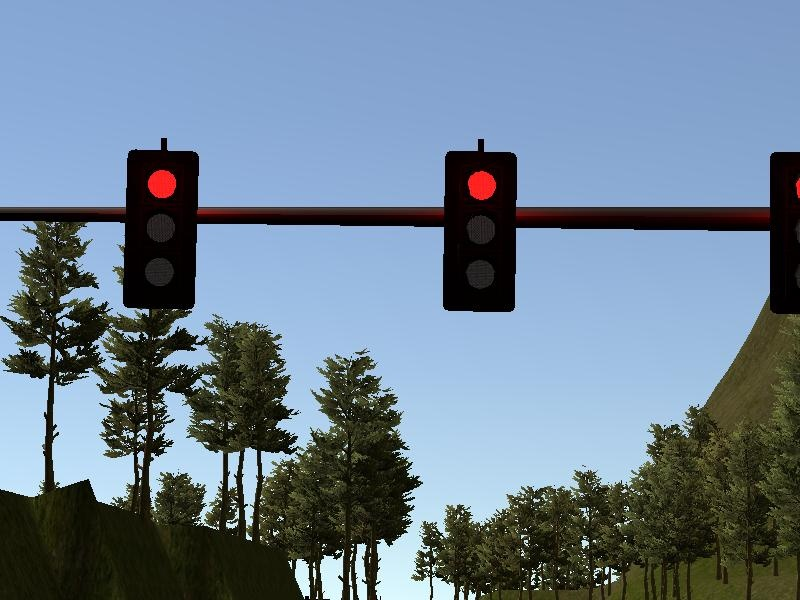Red: (120, 146, 201, 310), (441, 146, 518, 315), (765, 148, 800, 319)
